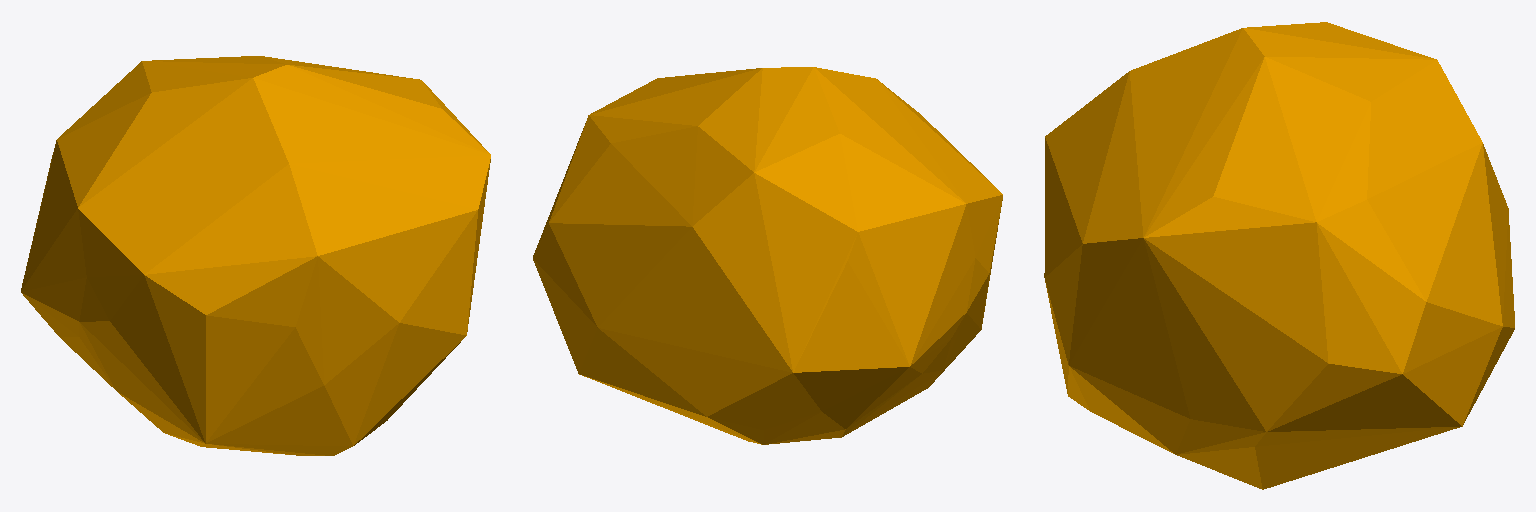
URDF robot description (054_011_5752):
<?xml version="1.0"?>
<robot name="054_011_5752">
  <link name="link">
    <contact>
      <lateral_friction value="0.6"/>
    </contact>
    <inertial>
      <mass value = "0.5236036308867605"/>
      <inertia ixx="0.00028565532348238655" ixy="-6.901062699749384e-21" ixz="1.8831582925097373e-20" iyy="0.0003097906981027196" iyz="4.9447346576329296e-20" izz="0.0003413651024355764" />
    </inertial>
    <visual name="visual">
      <geometry>
        <mesh filename="054_011_5752.obj"/>
      </geometry>
    </visual>
    <collision name="collision">
      <geometry>
        <mesh filename="054_011_5752.obj"/>
      </geometry>
    </collision>
  </link>
</robot>

--- Render facts (derived) ---
The picture shows the robot from 3 angles, left to right: view 1: azimuth 30°, elevation 25°; view 2: azimuth 150°, elevation 25°; view 3: azimuth 270°, elevation 25°; orthographic projection.
Model 054_011_5752 with 1 links and 0 joints (none), rooted at link, posed all joints at 0.
Links seen in each view (by area): view 1: link; view 2: link; view 3: link.
Link boxes in pixels (left/top/right/bottom): link: left=21, top=56, right=490, bottom=455; link: left=533, top=67, right=1002, bottom=444; link: left=1044, top=22, right=1514, bottom=489.
Size in the robot's own frame: 0.082 by 0.0753 by 0.0744 metres.
1 mesh visuals loaded from 1 distinct referenced files (1 OBJ).
